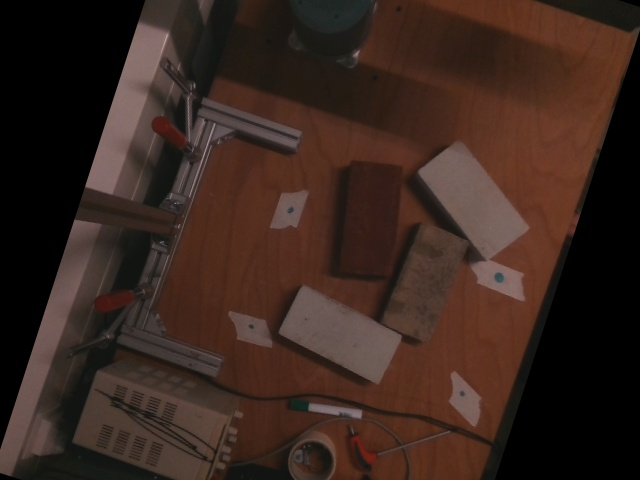brick: (419, 139, 527, 259), (278, 286, 400, 384), (380, 226, 467, 343), (343, 161, 402, 277)
